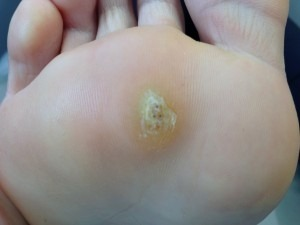Warts: (125, 73, 184, 154)
